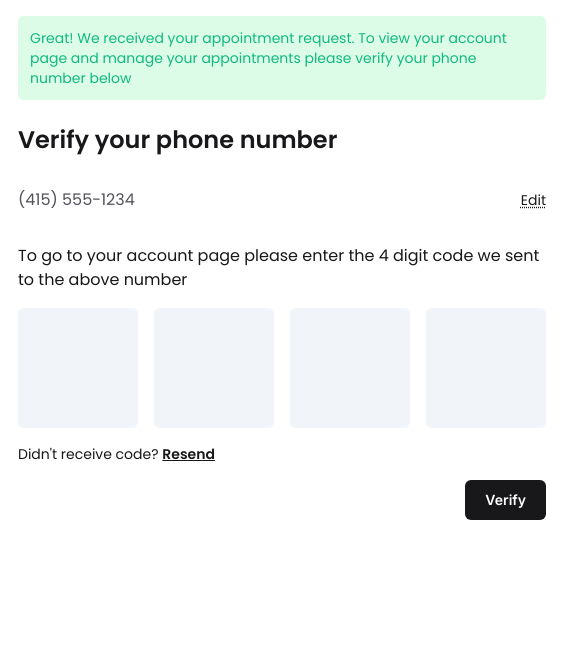
Test: VerifyPhoneNumber › Phone Number Editing › should show error for invalid phone number
Click the button "Edit" at (533, 200), box [521,190,546,210]
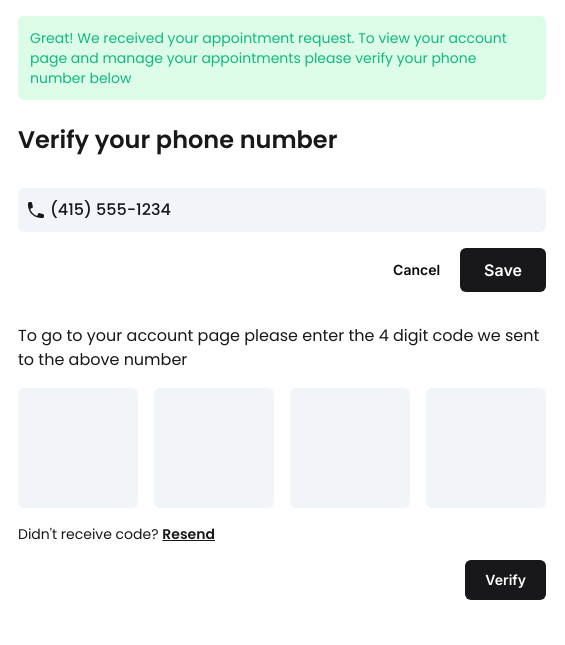
Replace the text in the field with placeholder "Enter your phone number" with "123" at (282, 210), box [18,188,546,232]
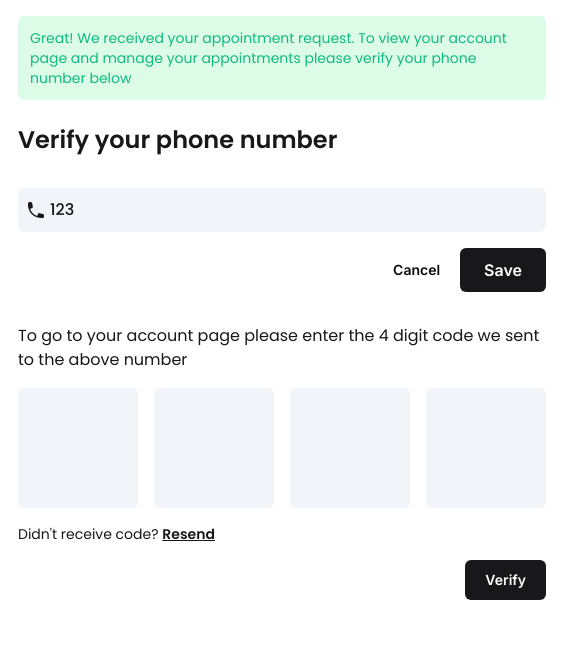
Click the button "Save" at (503, 270), box [460,248,546,292]
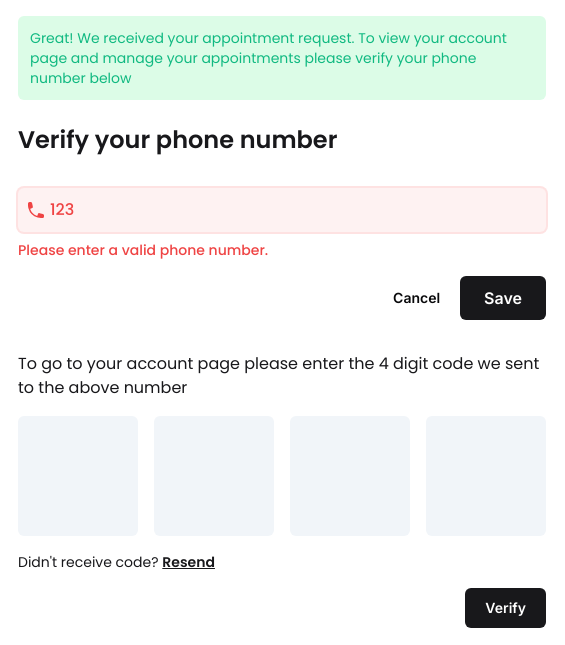
Result: the text "Please enter a valid phone number." is shown at [18,240,268,260]
